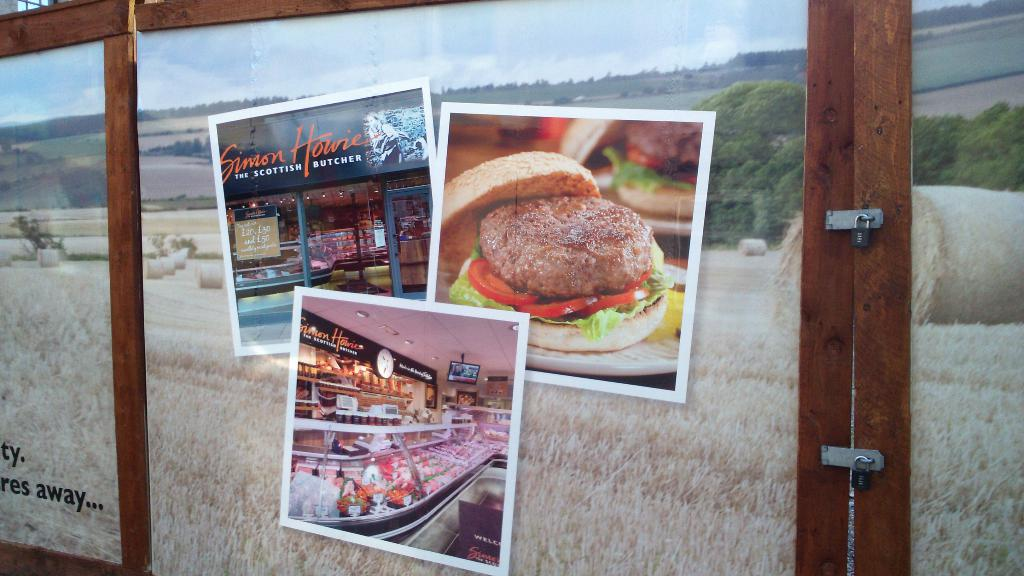Hamburger: (441, 151, 676, 353)
